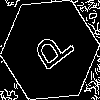P: (25, 25, 77, 79)
